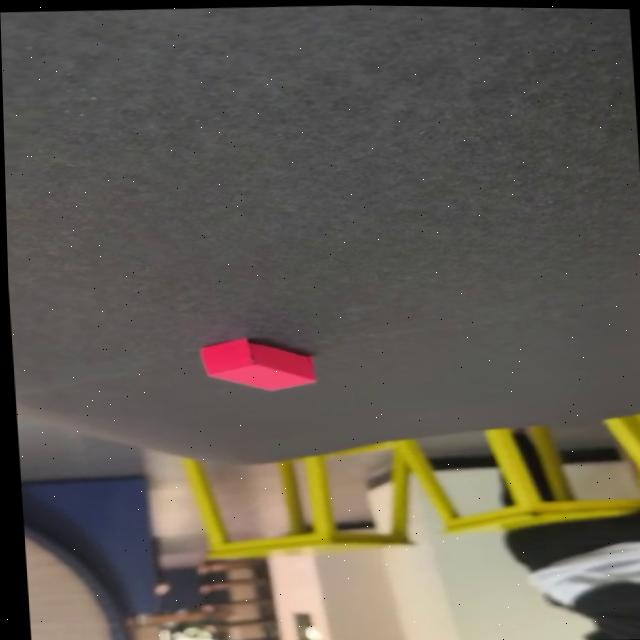red block: (198, 334, 319, 394)
